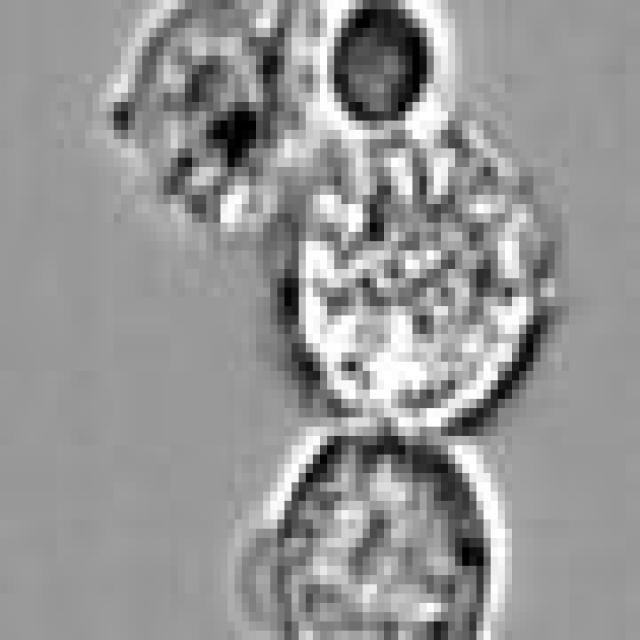Cancer Cell: (277, 426, 497, 640), (121, 9, 299, 223)
WBC: (292, 102, 554, 427)
